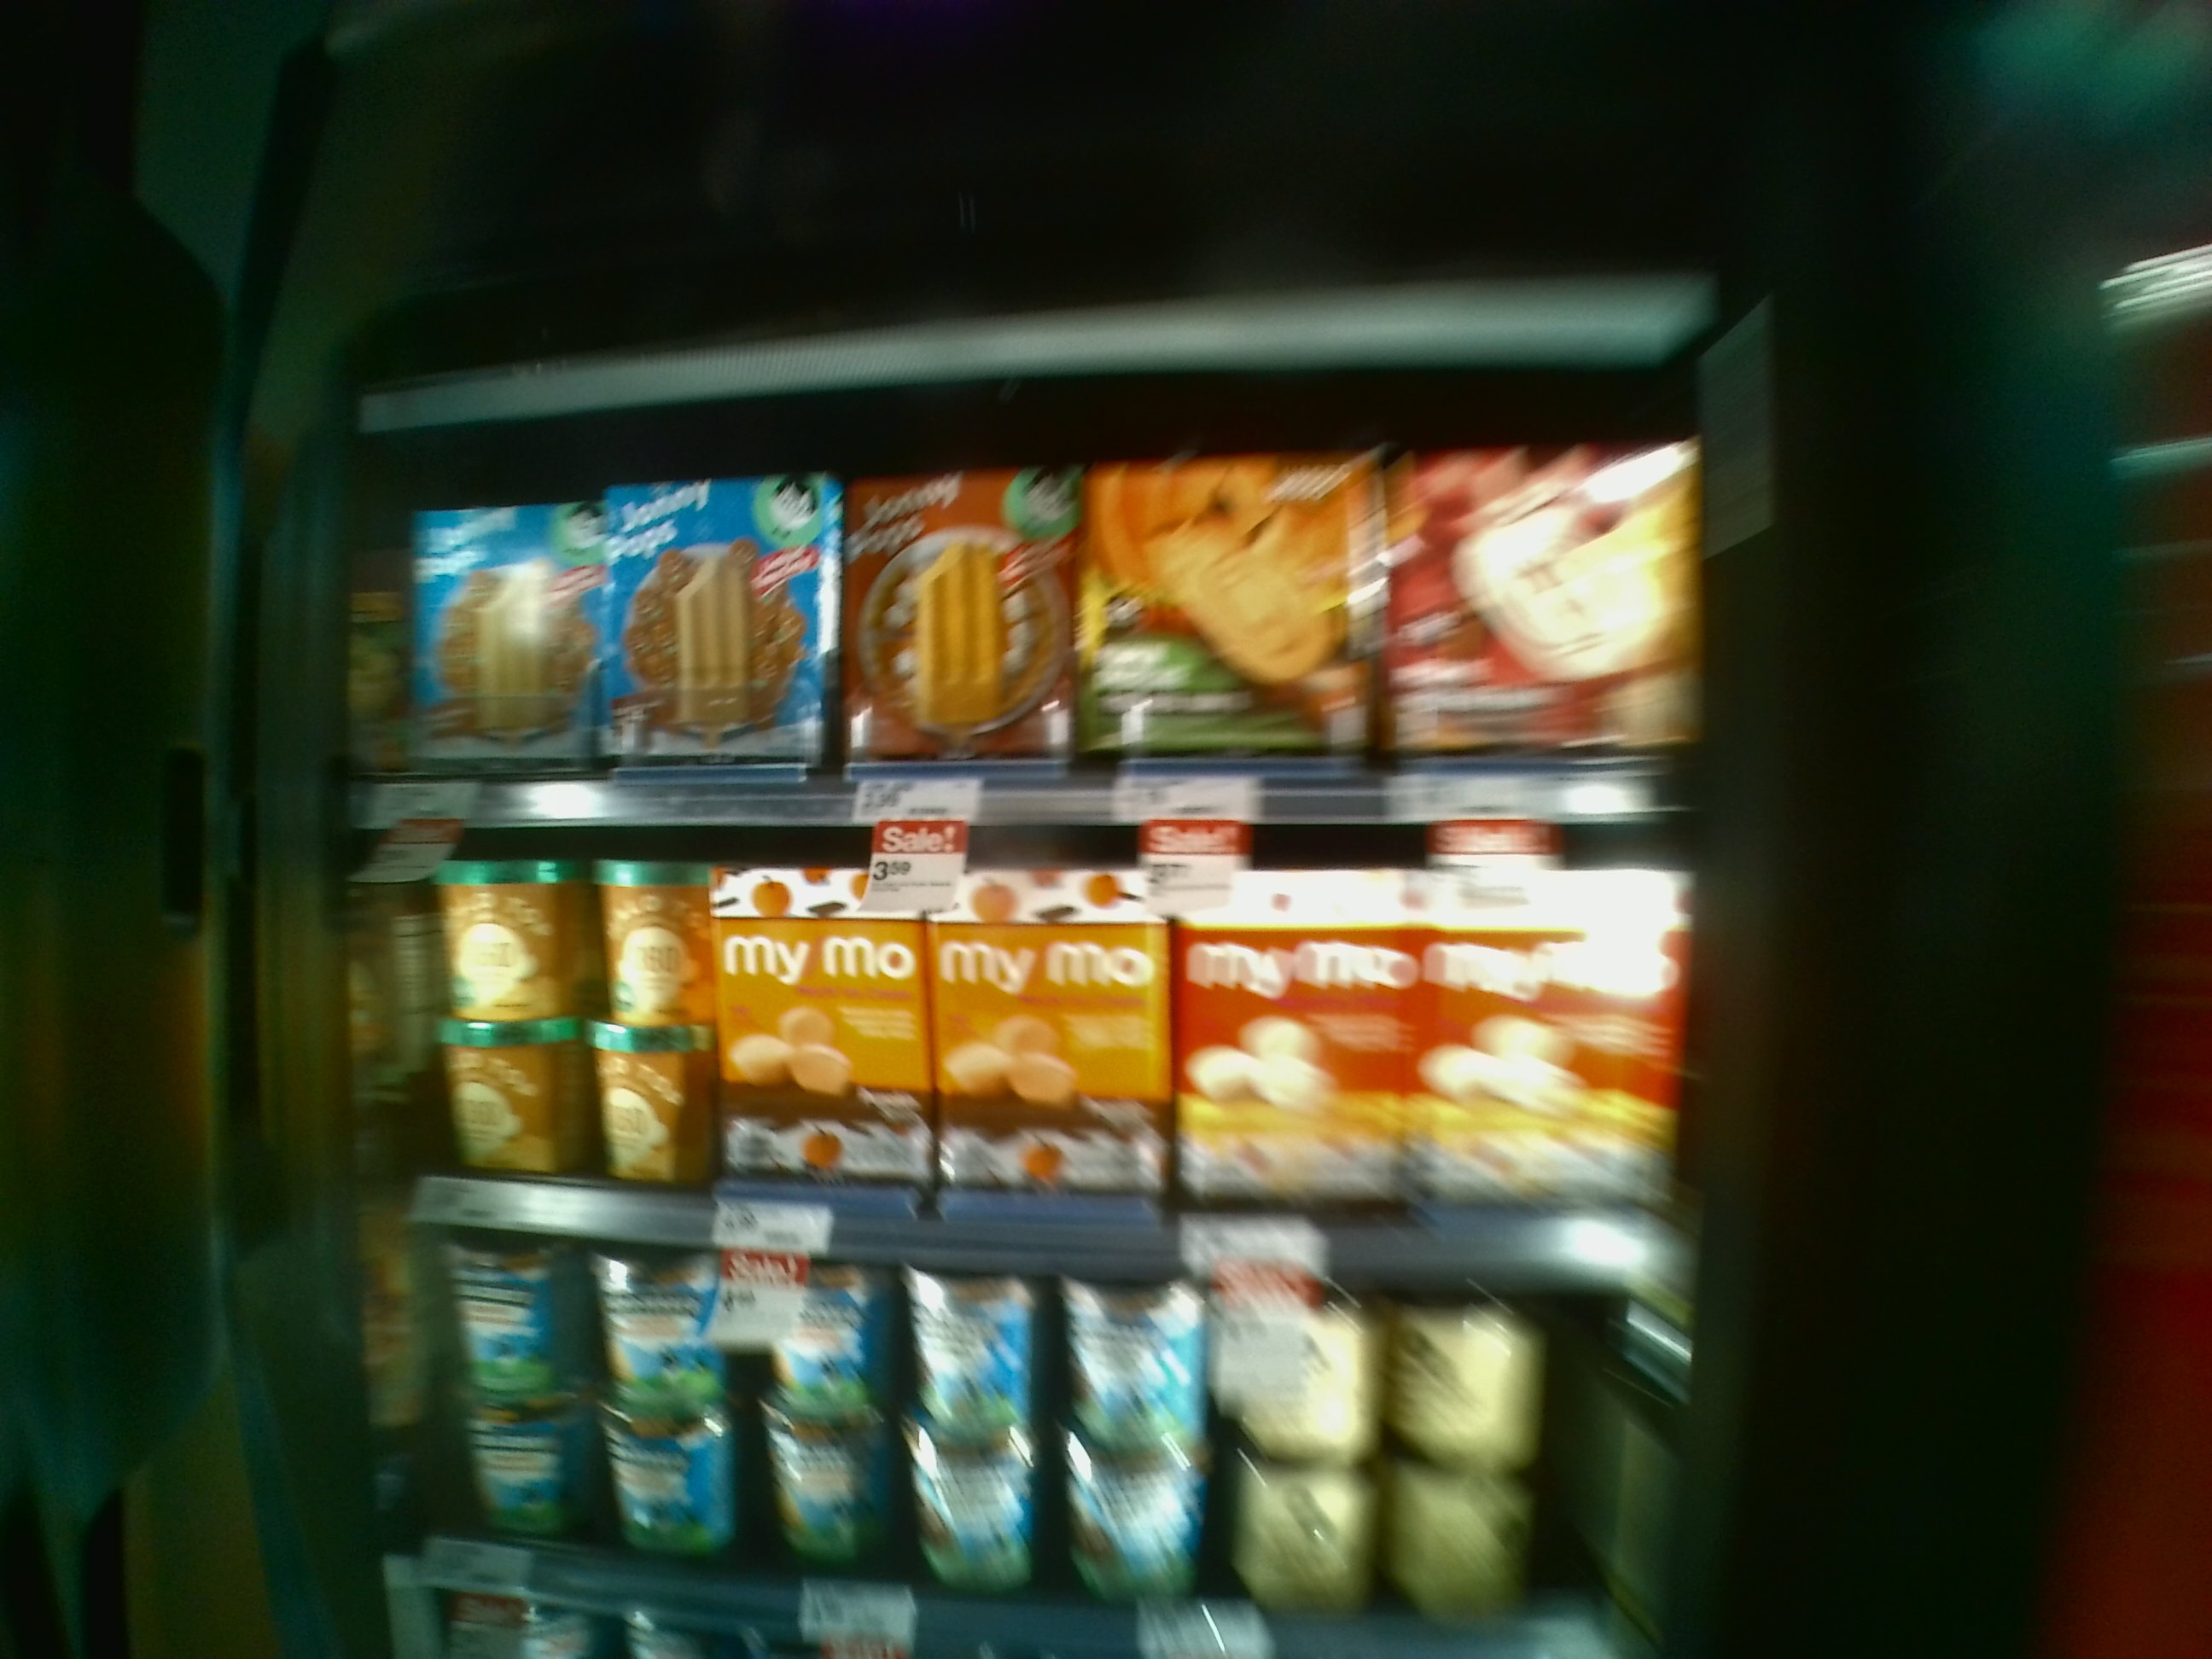shelf: (347, 791, 1712, 1300), (364, 423, 1693, 816)
